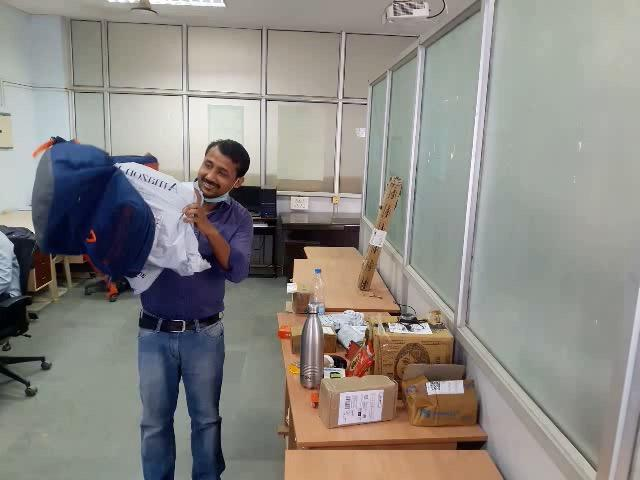shoplifting: (19, 106, 236, 336)
